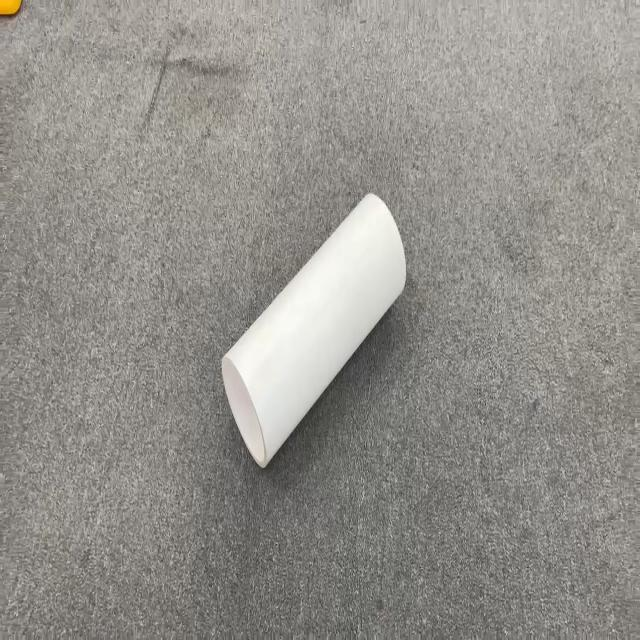coral: (220, 191, 407, 468)
